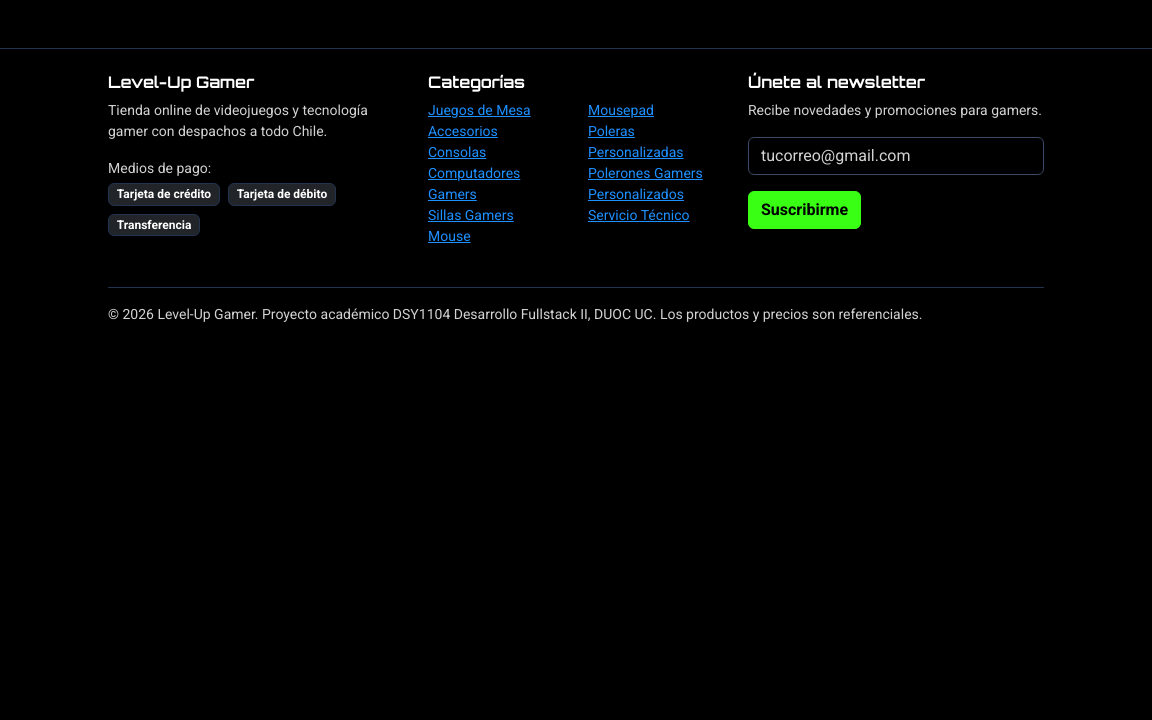
Test case: Footer (newsletter) › suscribe un correo válido, limpia el campo y confirma
Type "ana@gmail.com" into the field named "Correo para el newsletter" at (896, 156), box 748,137 -> 1044,175
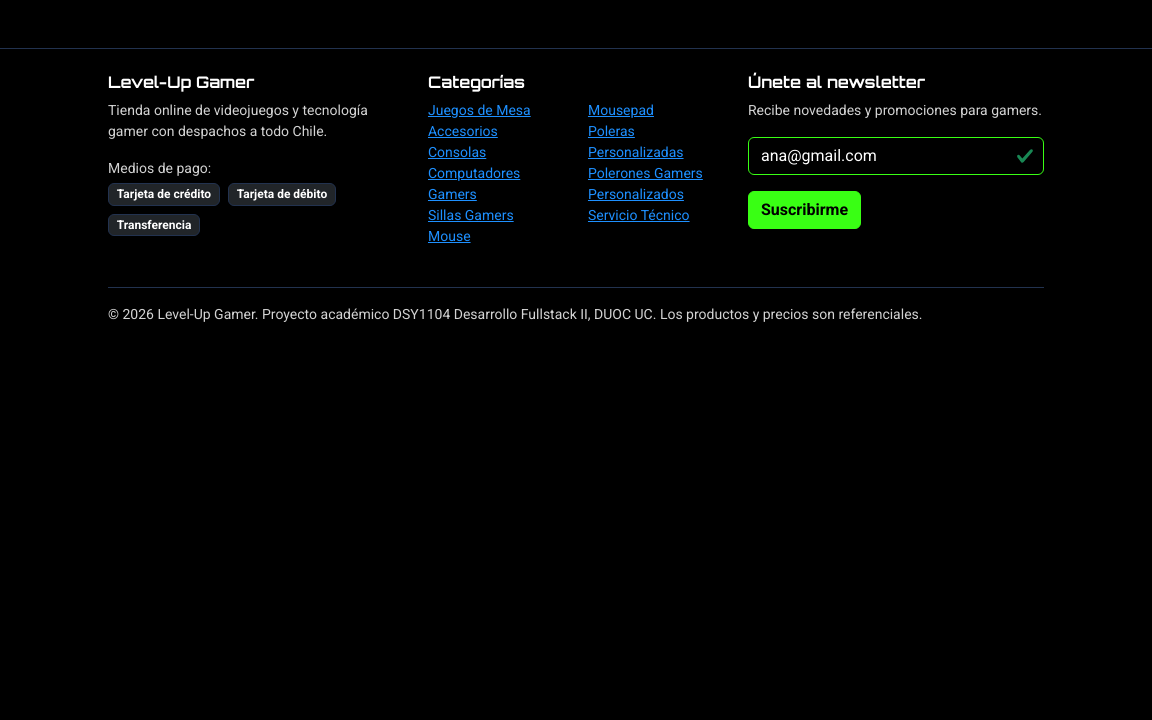
Click the button "Suscribirme" at (805, 210), box 748,191 -> 861,229
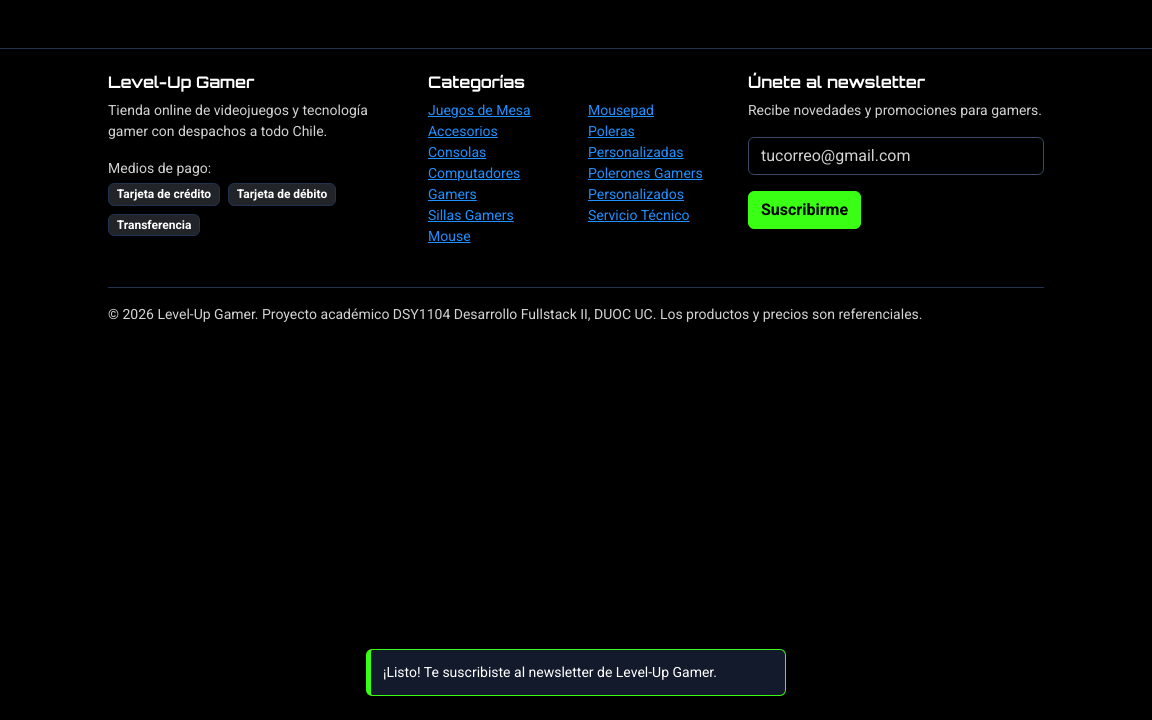
Check: the field with placeholder "tucorreo@gmail.com" is empty, box 748,137 -> 1044,175
Check: the text "¡Listo! Te suscribiste al newsletter de Level-Up Gamer." is shown, box 383,664 -> 717,680
